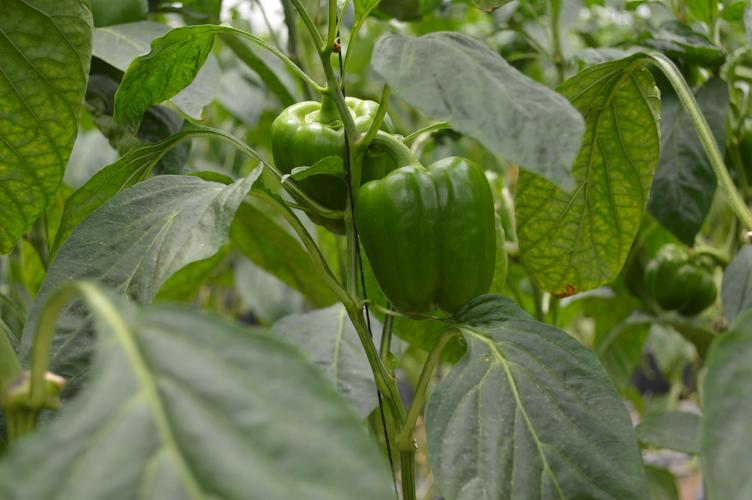BellPepper: (359, 159, 496, 315), (268, 96, 385, 226), (642, 247, 713, 317)
